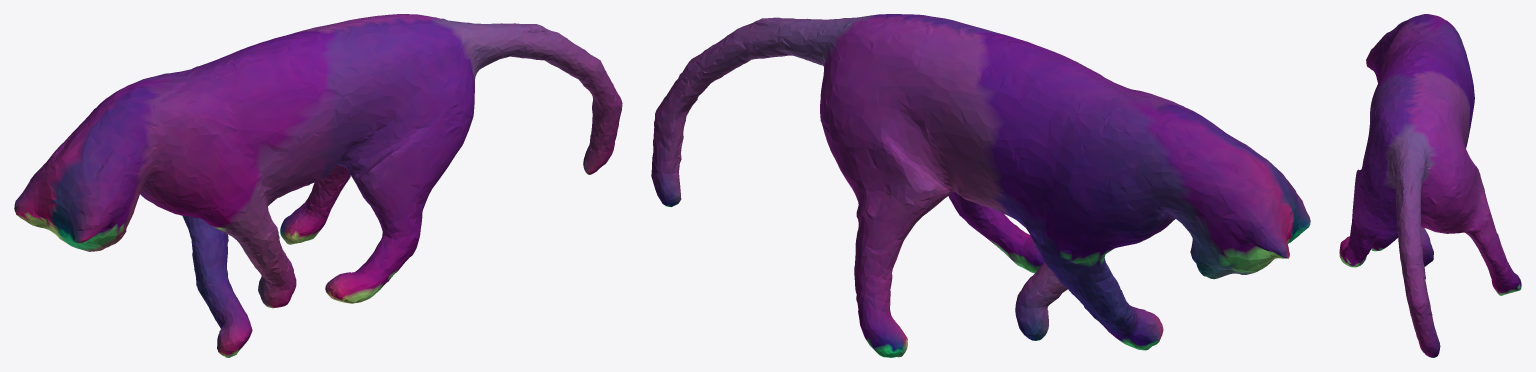
File: cat-13.off.obj
The picture shows the model from 3 angles, left to right: view 1: azimuth 30°, elevation 25°; view 2: azimuth 150°, elevation 25°; view 3: azimuth 270°, elevation 25°; orthographic projection. The views are drawn at different scales.
Size of the model in its own units: 1.62 by 0.7232 by 0.5328.
